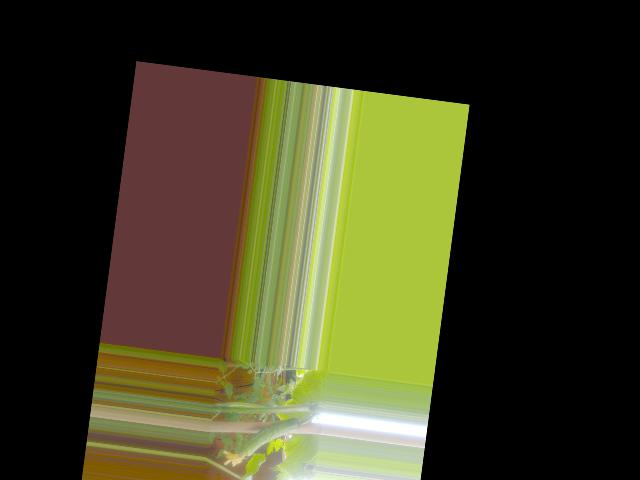cucumber: (221, 409, 301, 475)
